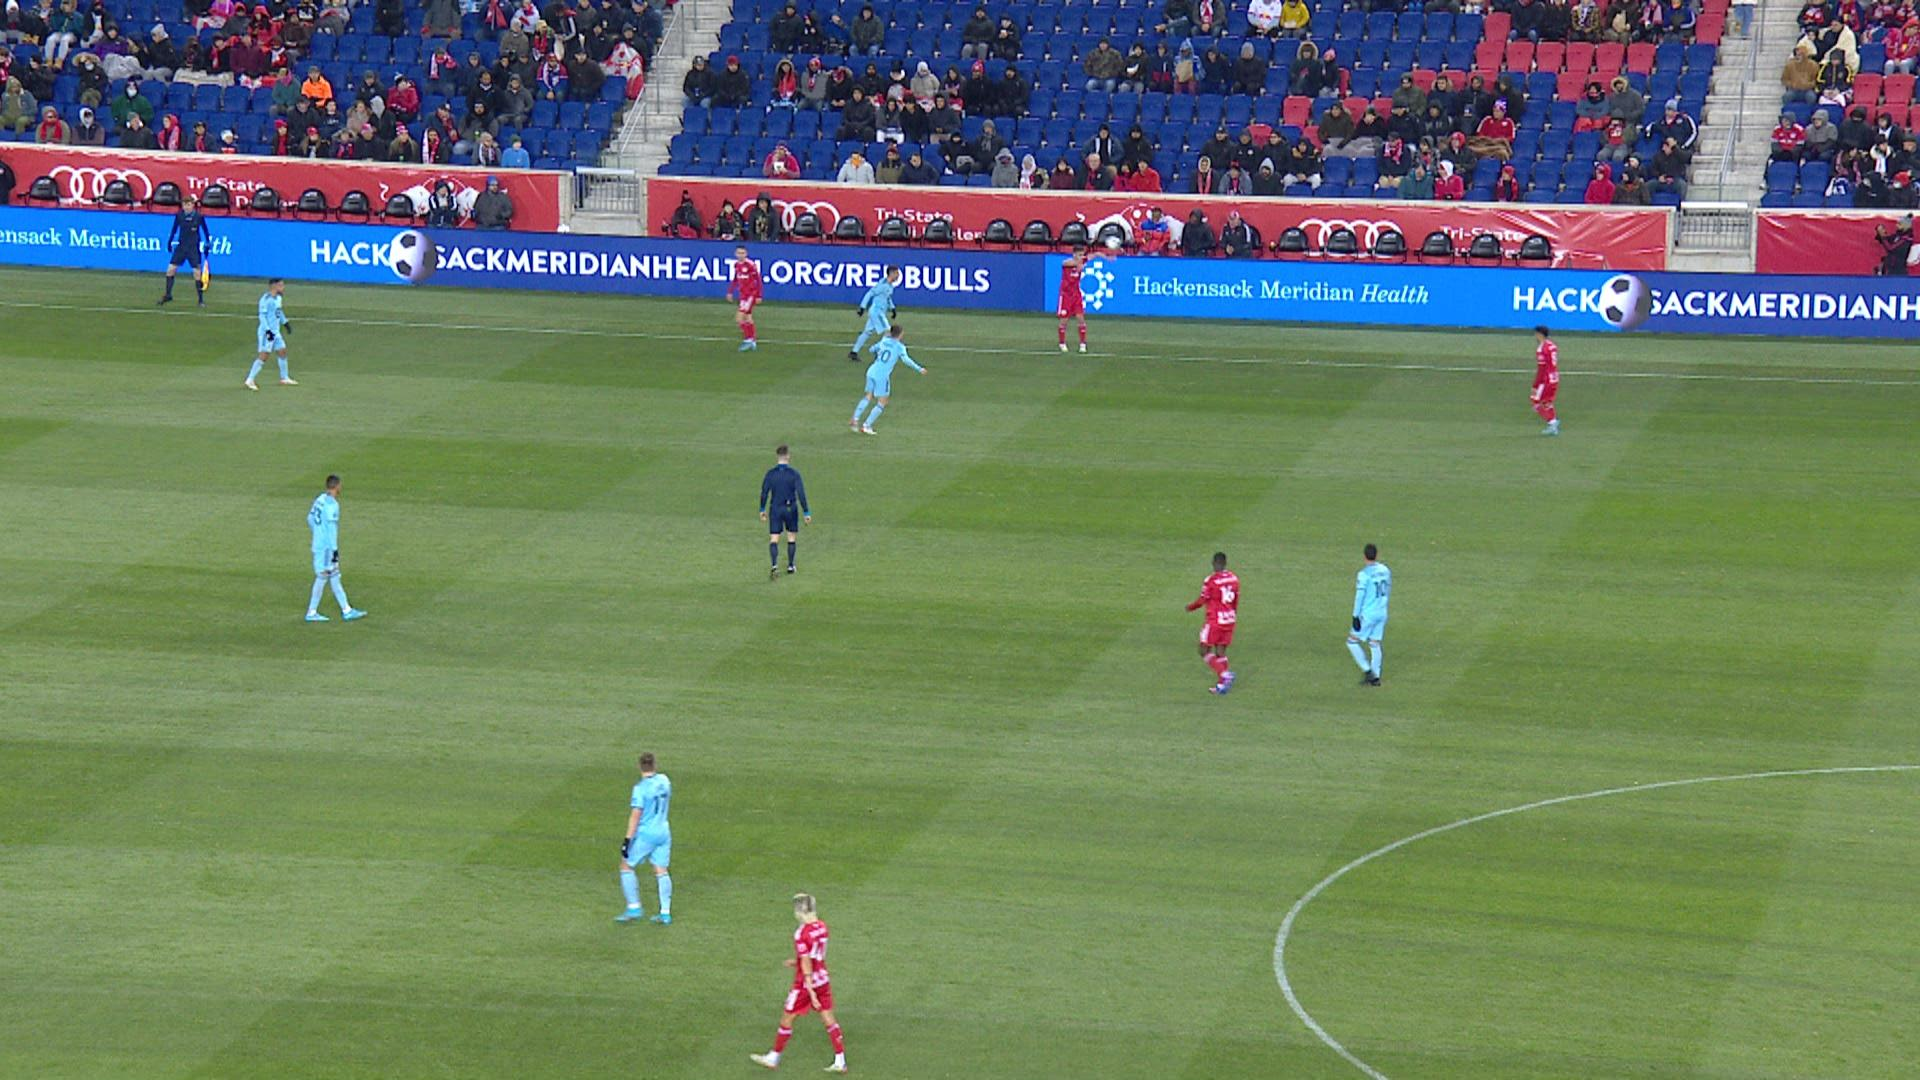football: (1107, 237, 1120, 249)
